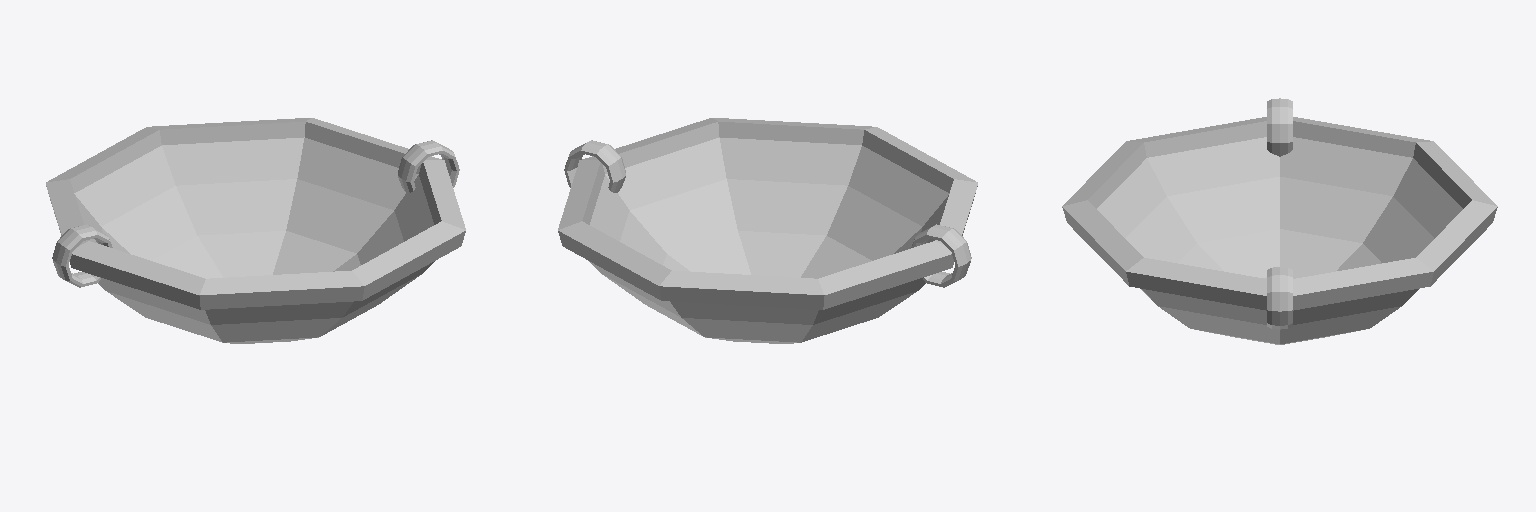
The model's file is HealthPickup.obj.
The picture shows the model from 3 angles: view 1: azimuth 30°, elevation 25°; view 2: azimuth 150°, elevation 25°; view 3: azimuth 270°, elevation 25°; orthographic projection.
Parts seen in each view (by area): view 1: WOH_Asset_Brazier.002_WOH_Asset_Brazier_Export.002; view 2: WOH_Asset_Brazier.002_WOH_Asset_Brazier_Export.002; view 3: WOH_Asset_Brazier.002_WOH_Asset_Brazier_Export.002.
Boxes of the visible parts, <box> form: WOH_Asset_Brazier.002_WOH_Asset_Brazier_Export.002: <box>46,118,465,343</box>; WOH_Asset_Brazier.002_WOH_Asset_Brazier_Export.002: <box>558,118,977,343</box>; WOH_Asset_Brazier.002_WOH_Asset_Brazier_Export.002: <box>1062,98,1497,344</box>.
Bounding box in the file's own units: 2.46 × 0.8152 × 2.33.